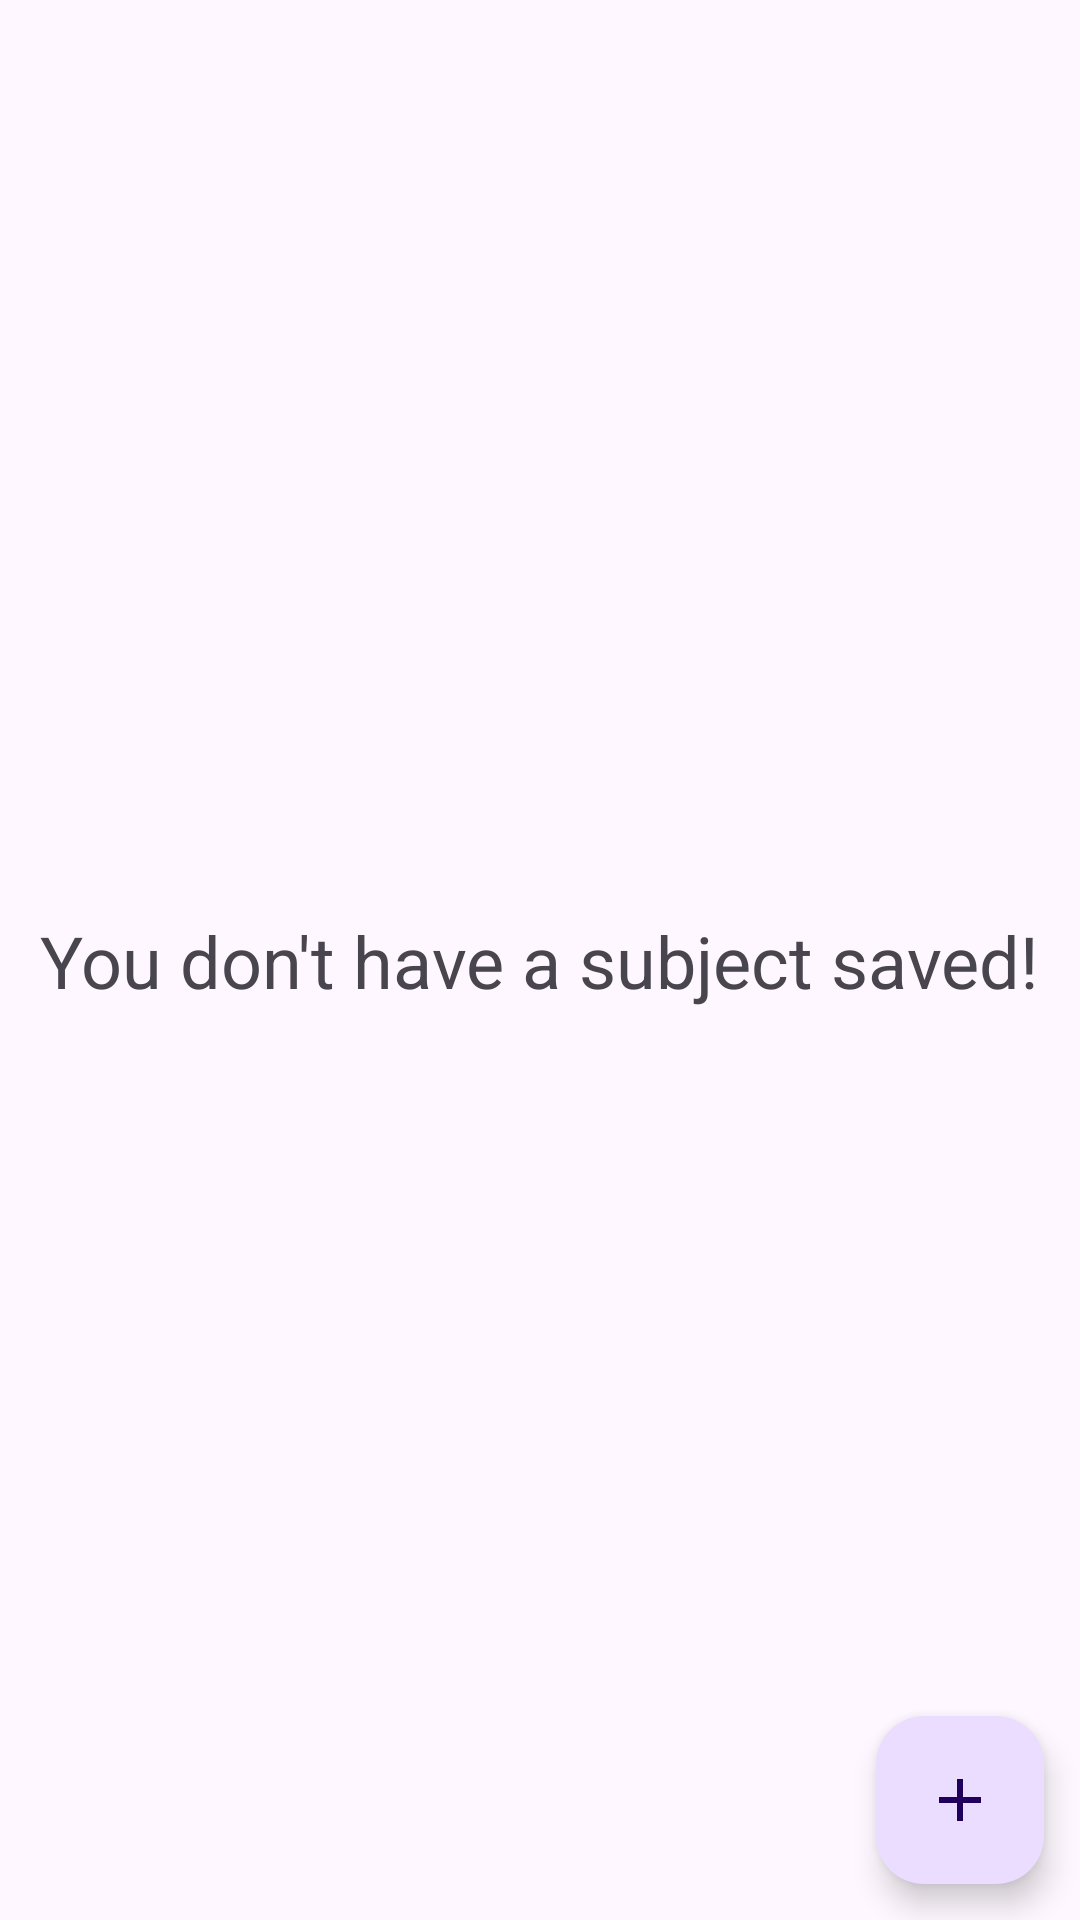

Screen size 1080px x 1920px. Icon name, then its box in pixels as (x1, y1, x2, y2):
add: (876, 1716, 1044, 1884)
